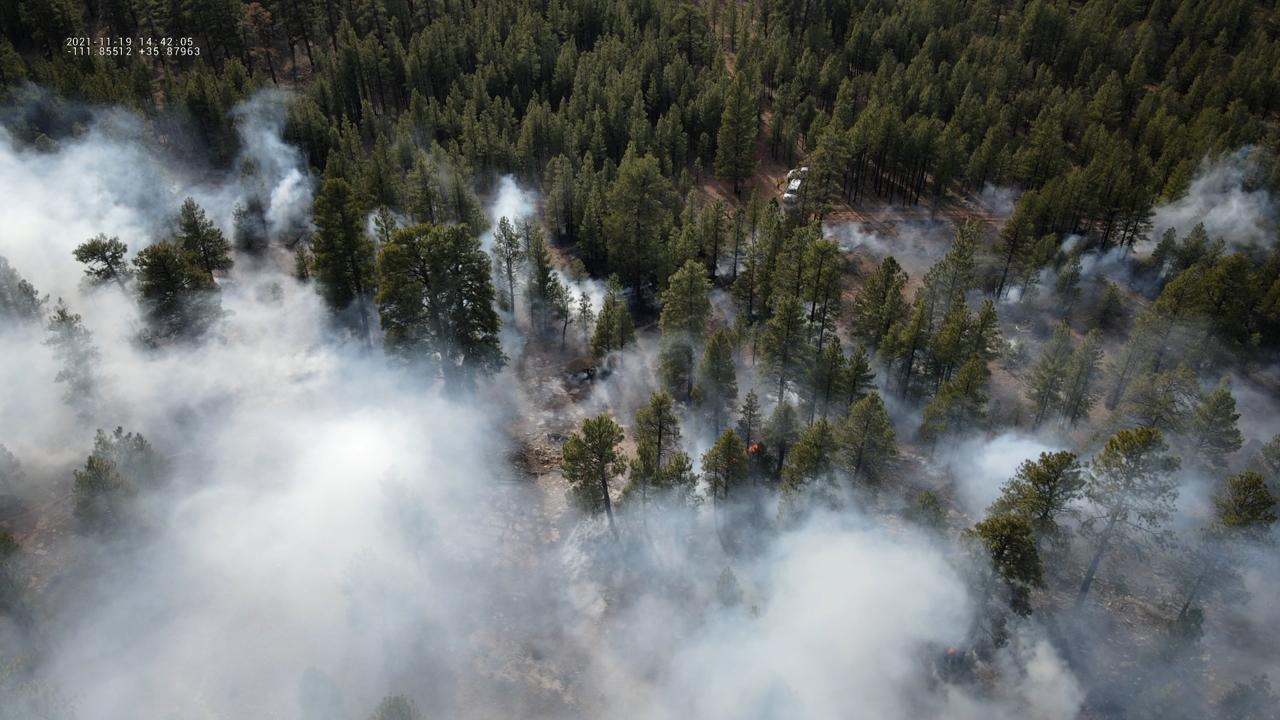fire: (1176, 687, 1214, 720), (747, 443, 760, 454)
smoke: (0, 84, 1280, 720)
